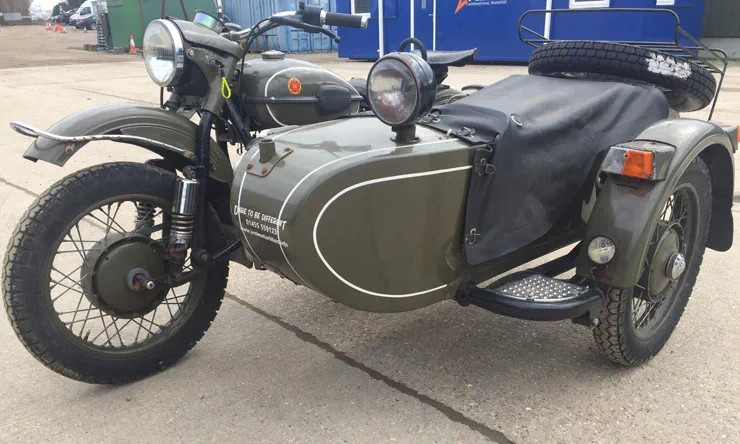bike: (0, 2, 736, 385)
